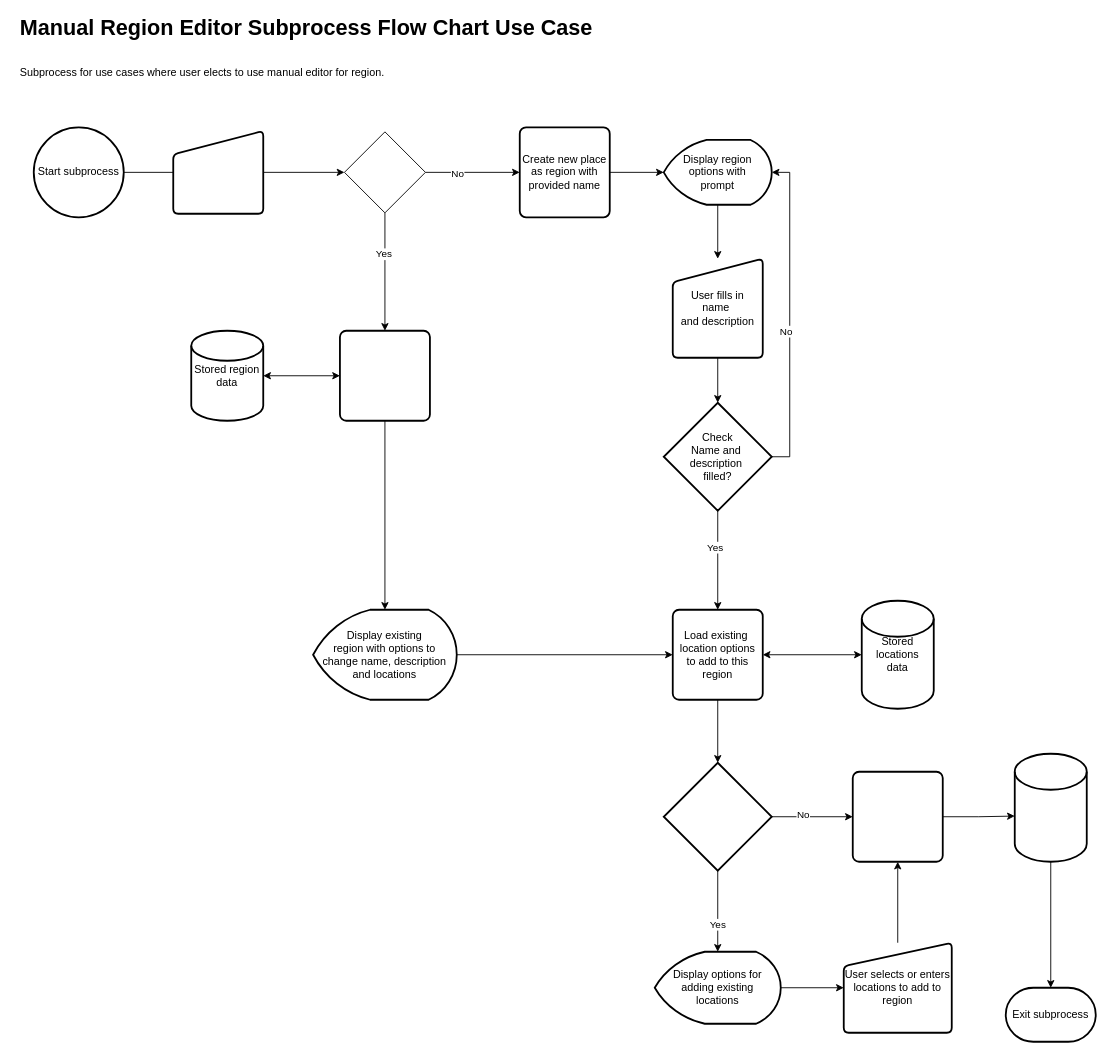
This 1112x1058 diagram has some shape labels left out. The shapes that lost their labels are listed below. From the top down, each one's centre as x and y in pixels, then its label:
At point 218,172: "User selects or enters region".
At point 384,172: "Region exists?".
At point 384,375: "Load existing region data, including selected locations".
At point 717,816: "Location options exist?".
At point 897,816: "Save new region with provided options".
At point 1050,807: "Data store".
